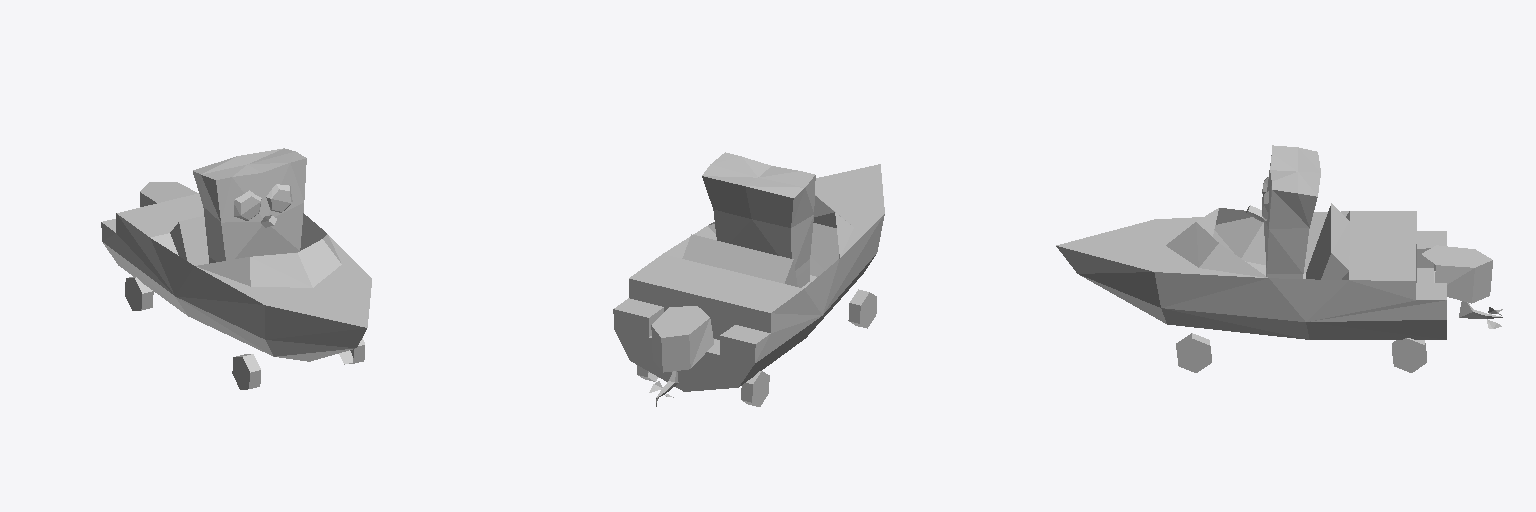
The model's file is Sblod2.obj.
The picture shows the model from 3 angles: view 1: azimuth 30°, elevation 25°; view 2: azimuth 150°, elevation 25°; view 3: azimuth 270°, elevation 25°; orthographic projection.
Parts seen in each view (by area): view 1: polygon1.005, polygon0.005; view 2: polygon1.005, polygon0.005; view 3: polygon1.005, polygon0.005.
Part boxes in pixels (left/top/right/bottom): polygon1.005: left=101, top=182, right=371, bottom=389; polygon0.005: left=193, top=148, right=306, bottom=263; polygon1.005: left=613, top=164, right=884, bottom=406; polygon0.005: left=702, top=152, right=815, bottom=287; polygon1.005: left=1056, top=203, right=1502, bottom=372; polygon0.005: left=1246, top=145, right=1320, bottom=278.
Bounding box in the file's own units: 2.35 × 2.82 × 6.42.